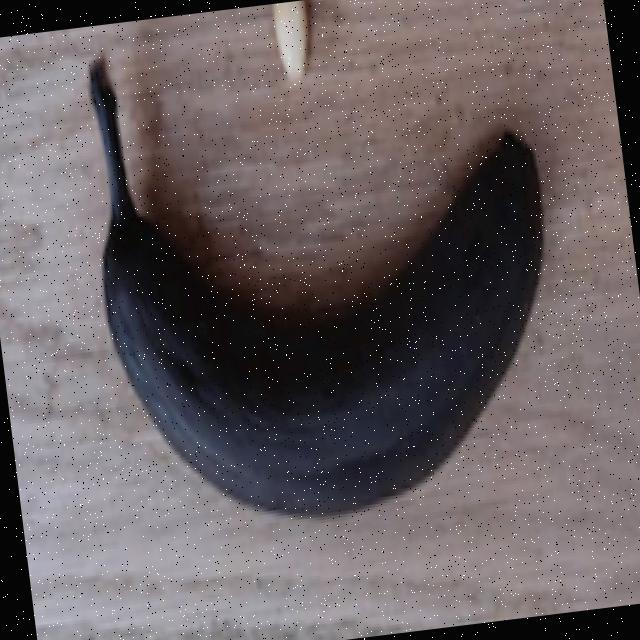Rotten: (42, 0, 589, 574)
